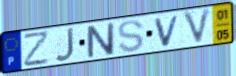J: (54, 26, 76, 63)
N: (84, 22, 116, 60)
S: (116, 19, 145, 54)
V: (180, 6, 213, 47), (153, 13, 182, 48)
Z: (22, 29, 51, 69)
